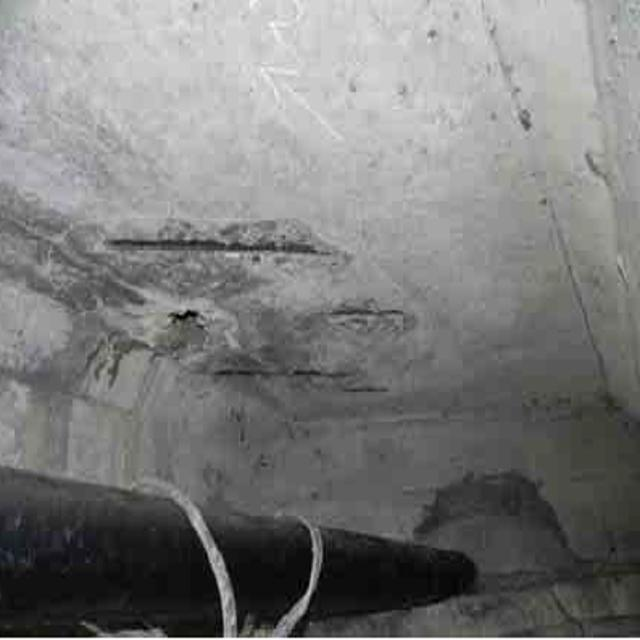spalling: (87, 164, 429, 434)
